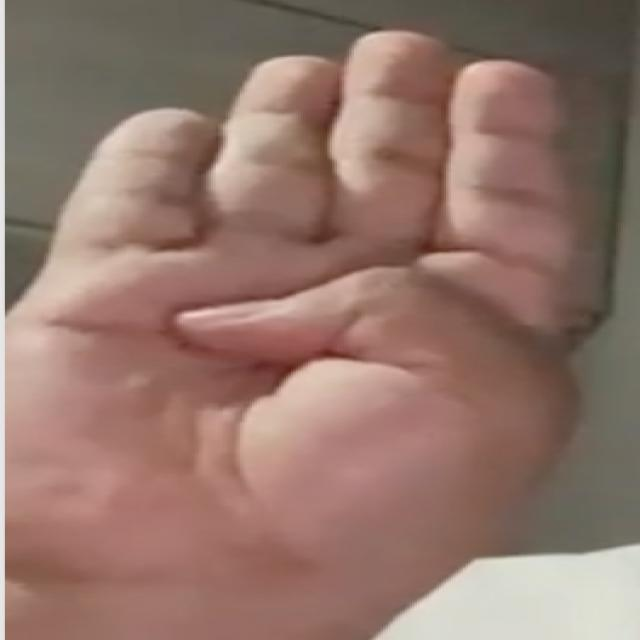B: (2, 24, 595, 598)
